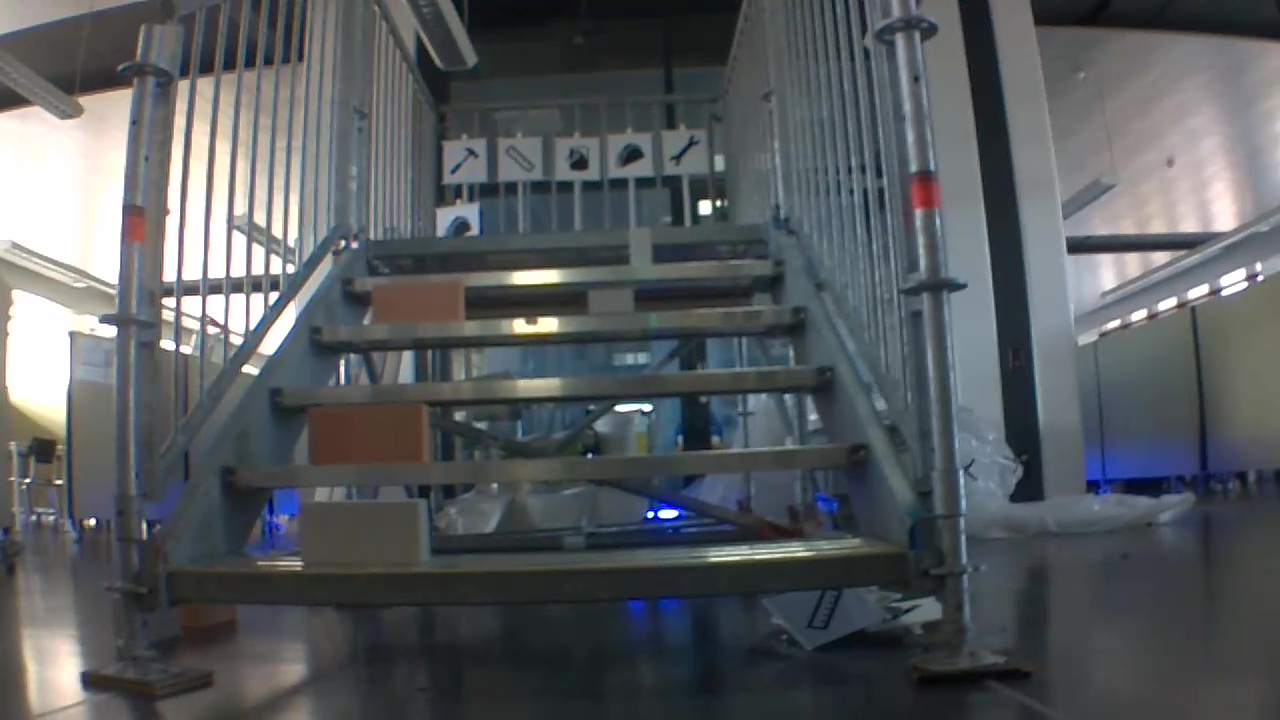brick: (300, 499, 428, 564), (310, 403, 430, 463), (371, 280, 464, 321), (588, 288, 633, 312), (629, 226, 651, 264)
bucket: (558, 140, 595, 177)
edge: (166, 552, 908, 599), (222, 443, 865, 486), (270, 366, 836, 405), (309, 303, 807, 341), (344, 257, 786, 291), (368, 223, 766, 252)
hammer: (444, 142, 481, 177)
ruler: (500, 143, 539, 176)
stairs: (76, 3, 1033, 702)
steps: (159, 214, 911, 611)
taco: (438, 208, 474, 238), (613, 137, 645, 169)
wrench: (666, 130, 702, 169)
